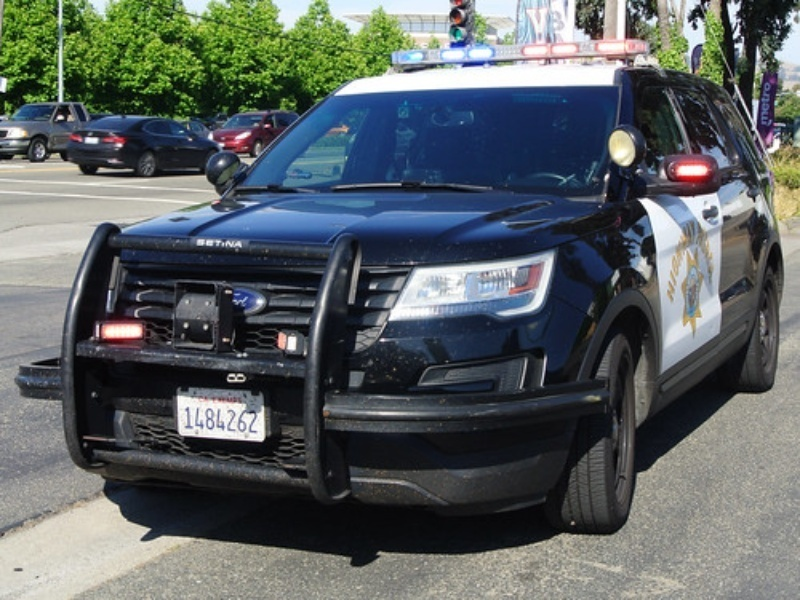normalcar: (65, 106, 206, 175)
policecar: (319, 44, 785, 525)
